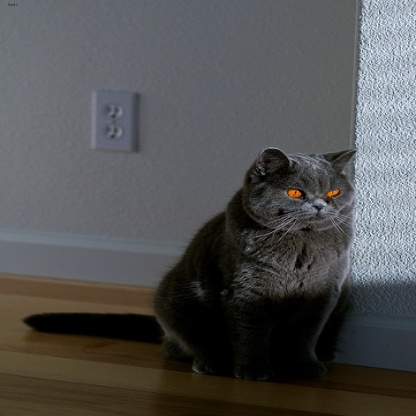british_shorthair: (21, 149, 357, 381)
